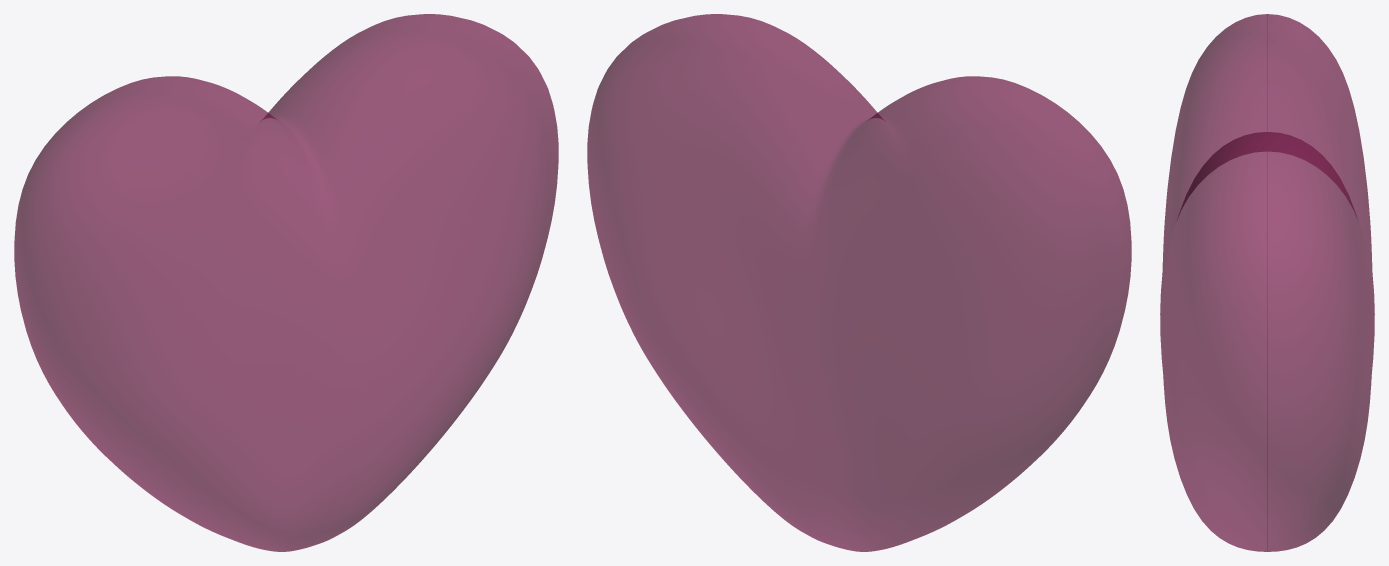
The model's file is tz-coracao-uva.glb.
The picture shows the model from 3 angles, left to right: view 1: azimuth 30°, elevation 25°; view 2: azimuth 150°, elevation 25°; view 3: azimuth 270°, elevation 25°; orthographic projection. The views are drawn at different scales.
Parts seen in each view (by area): view 1: Coração.005; view 2: Coração.005; view 3: Coração.005.
Boxes of the visible parts, x1,y1,x2,y2 form: Coração.005: [14, 14, 558, 551]; Coração.005: [587, 14, 1131, 551]; Coração.005: [1160, 14, 1374, 551].
Bounding box in the file's own units: 0.4002 × 0.3573 × 0.1513.
